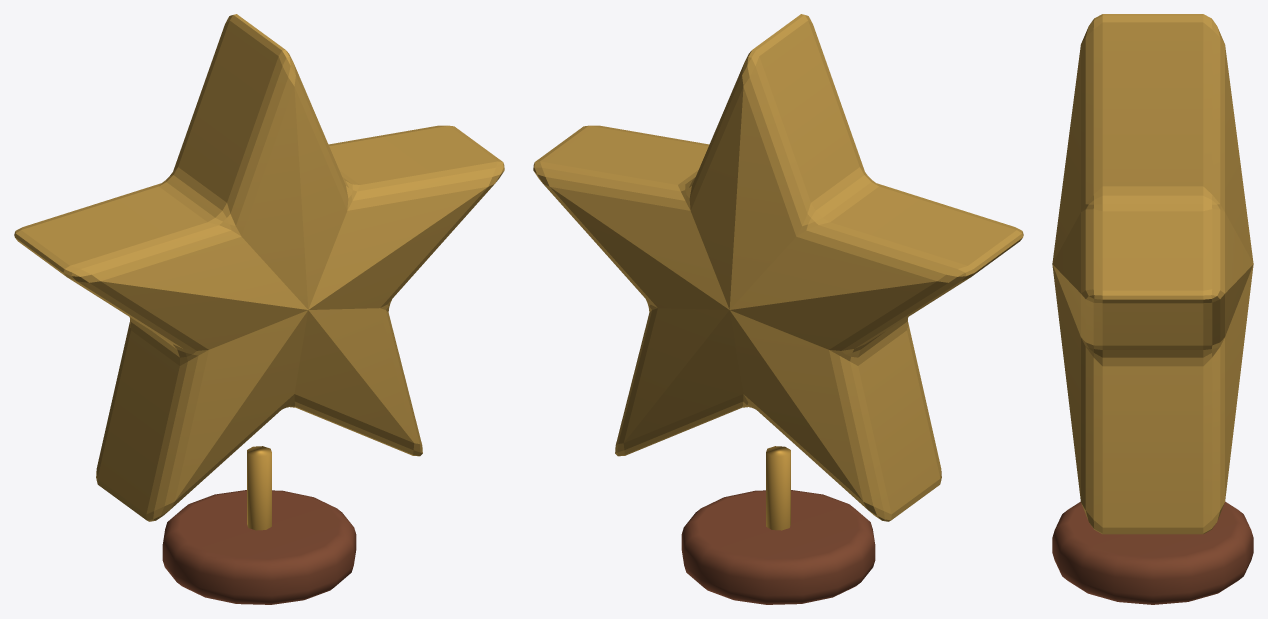
Rendered from star-lantern.glb.
3 views of the same model, side by side, from view 1: azimuth 30°, elevation 25°; view 2: azimuth 150°, elevation 25°; view 3: azimuth 270°, elevation 25° (orthographic). The views are drawn at different scales.
Visible parts, largest first — view 1: star-lantern; view 2: star-lantern; view 3: star-lantern.
Boxes of the visible parts, x1,y1,x2,y2 form: star-lantern: (14, 14, 504, 604); star-lantern: (533, 14, 1023, 604); star-lantern: (1052, 14, 1253, 604).
Bounding box in the file's own units: 0.3126 × 0.364 × 0.12.
